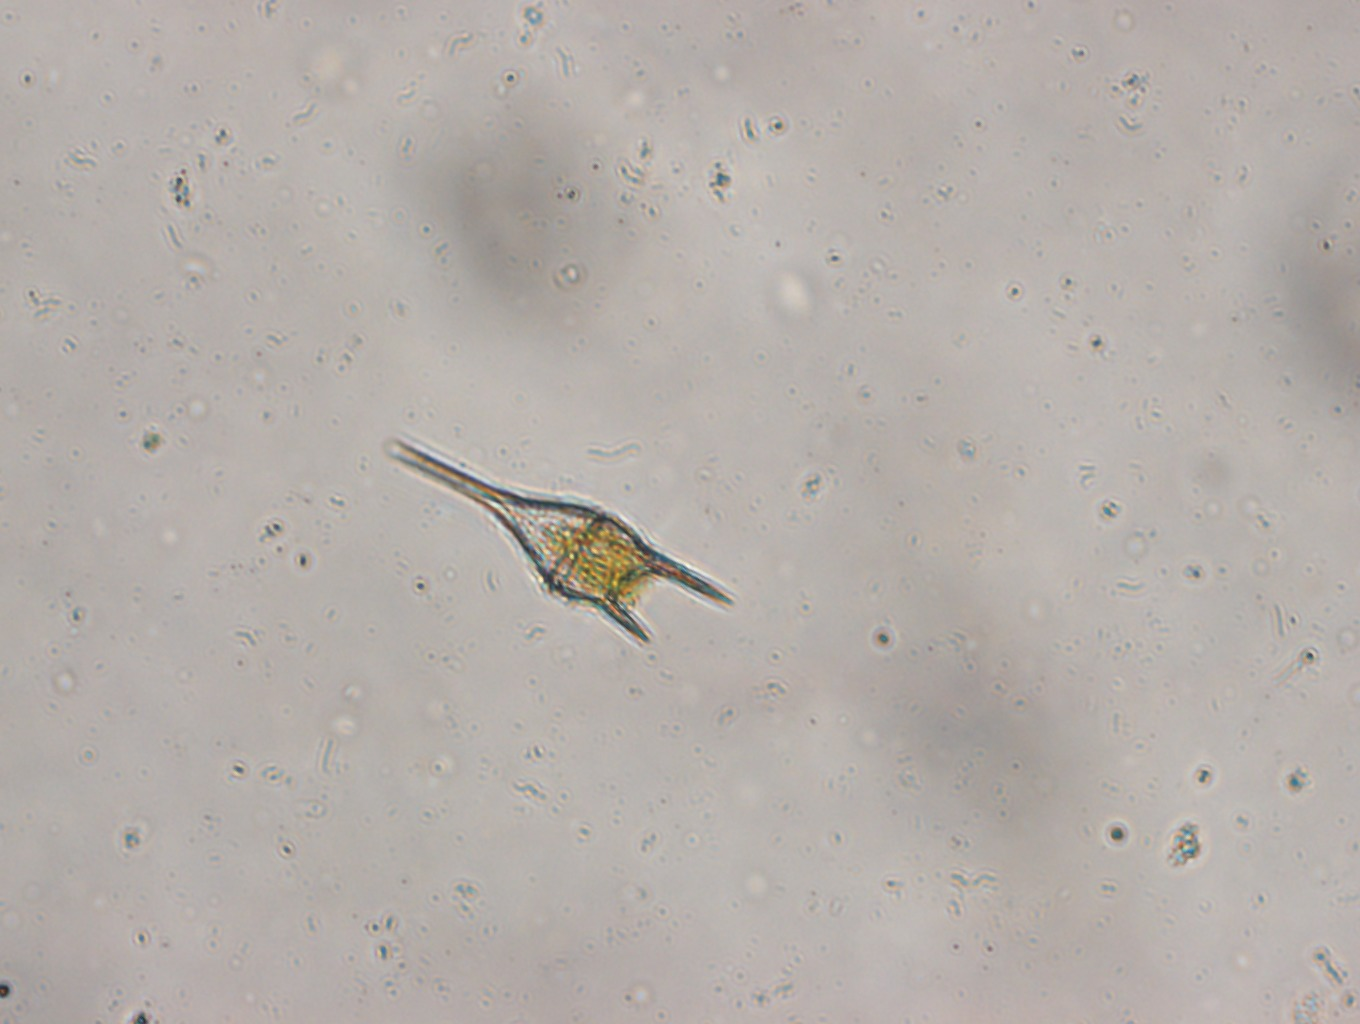ceratium furca: (387, 437, 745, 655)
